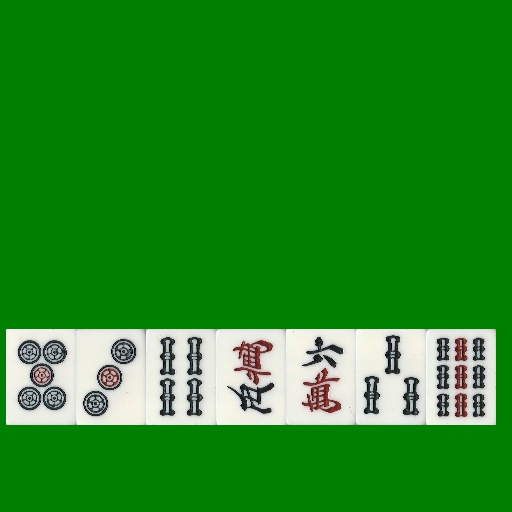3p: (76, 329, 146, 425)
3s: (356, 329, 426, 425)
4s: (146, 329, 216, 425)
5m: (216, 329, 286, 425)
5p: (6, 329, 76, 425)
6m: (286, 329, 356, 425)
9s: (426, 329, 496, 425)
